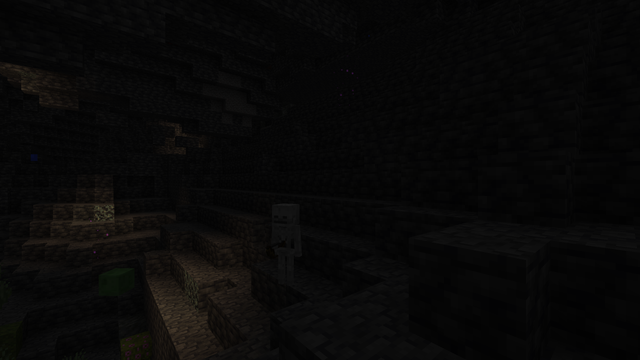slimes: (103, 265, 130, 297)
squelettes: (269, 203, 302, 290)
